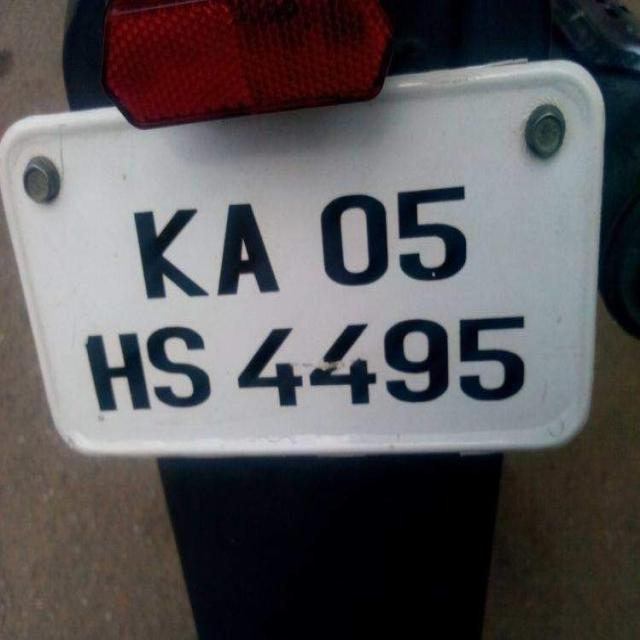number_plate: (37, 145, 559, 444)
